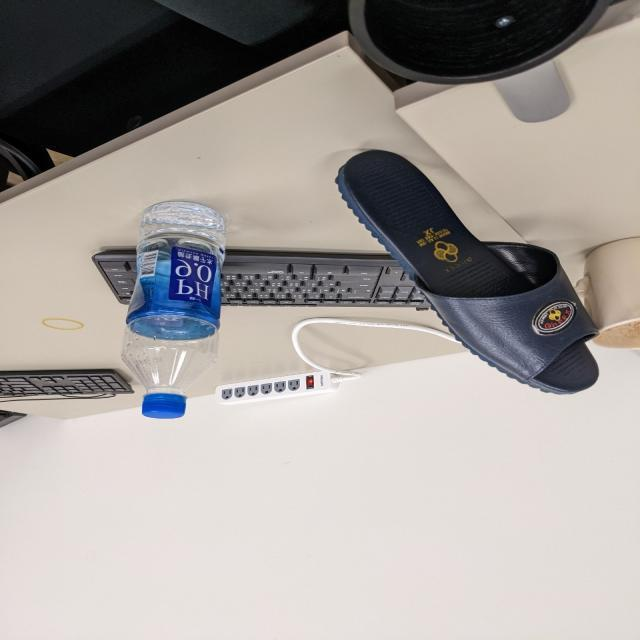good: (108, 196, 246, 426)
